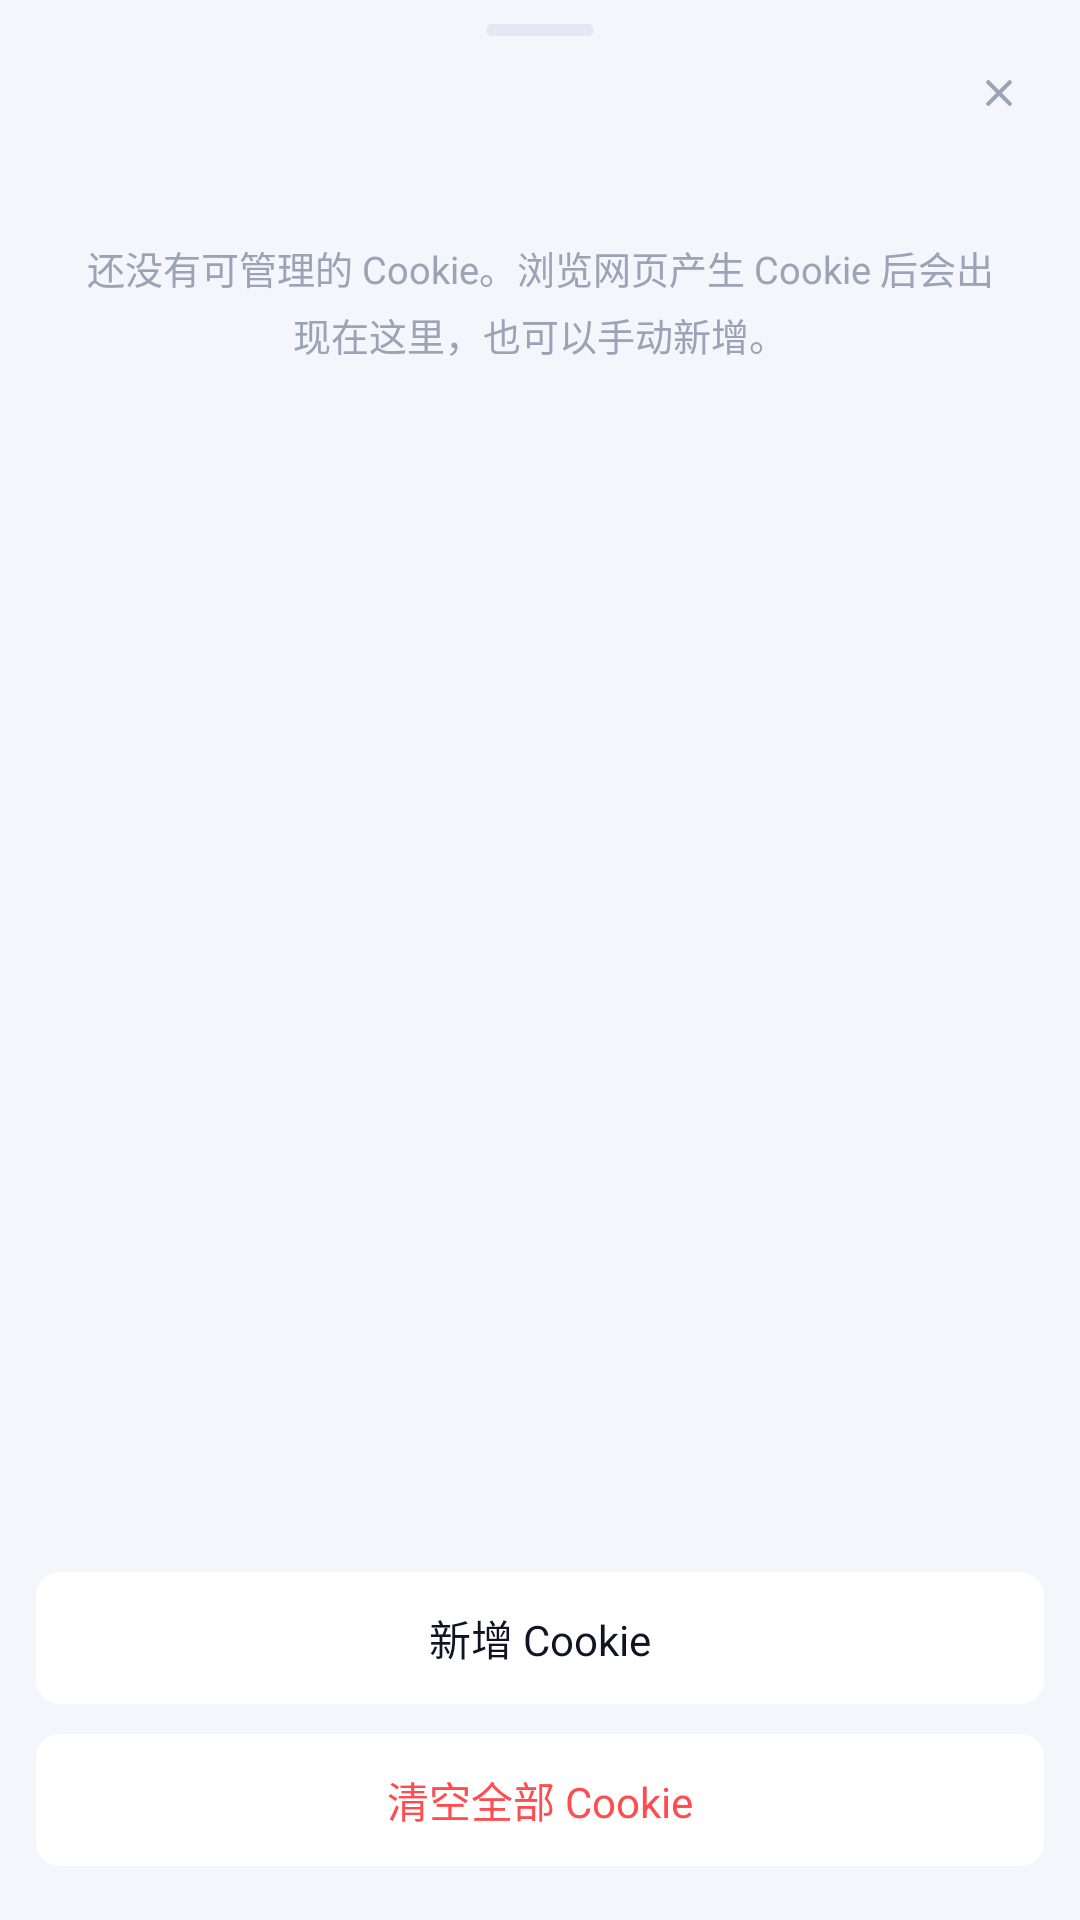

Where to tap for icons on this 1080*1920 app screen, as (x,y):
关闭: (999,93)
